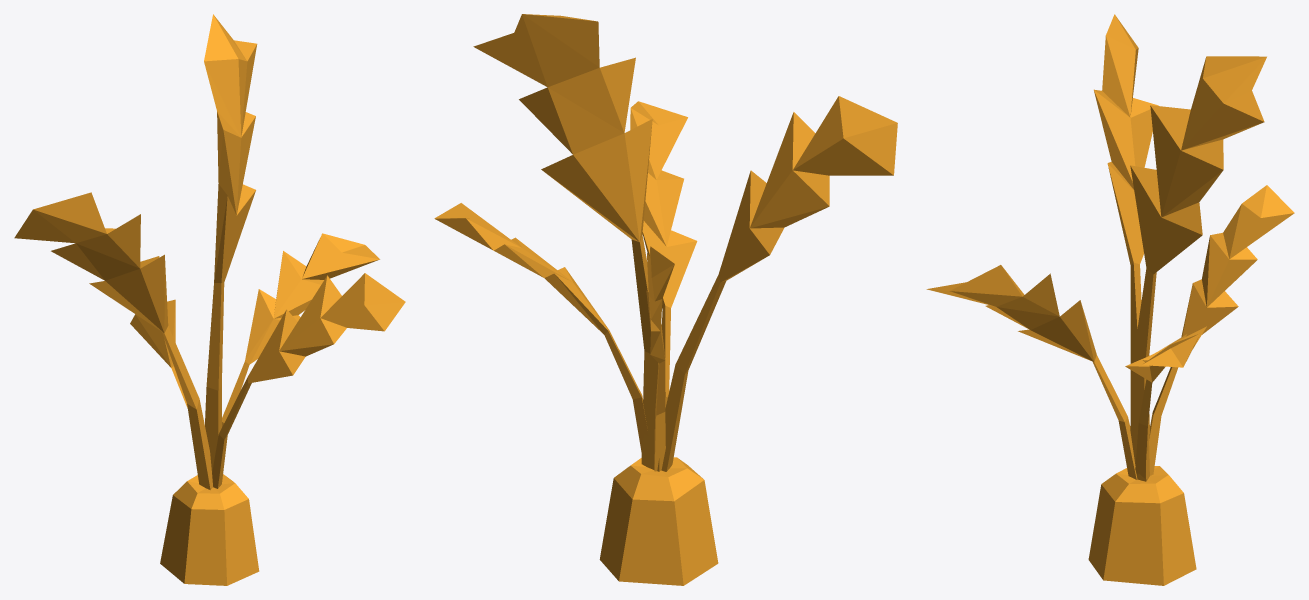
Rendered from SM_Carrot_Plant_Ripe_A.fbx.
3 views of the same model, side by side, from view 1: azimuth 30°, elevation 25°; view 2: azimuth 150°, elevation 25°; view 3: azimuth 270°, elevation 25° (orthographic). The views are drawn at different scales.
Visible parts, largest first — view 1: carrot-plant-ripe-a; view 2: carrot-plant-ripe-a; view 3: carrot-plant-ripe-a.
Boxes of the visible parts, x1=… form: carrot-plant-ripe-a: x1=14, y1=14, x2=405, y2=585; carrot-plant-ripe-a: x1=434, y1=14, x2=897, y2=585; carrot-plant-ripe-a: x1=926, y1=14, x2=1294, y2=585.
Size of the model in its own units: 0.4025 by 0.5128 by 0.3178.
